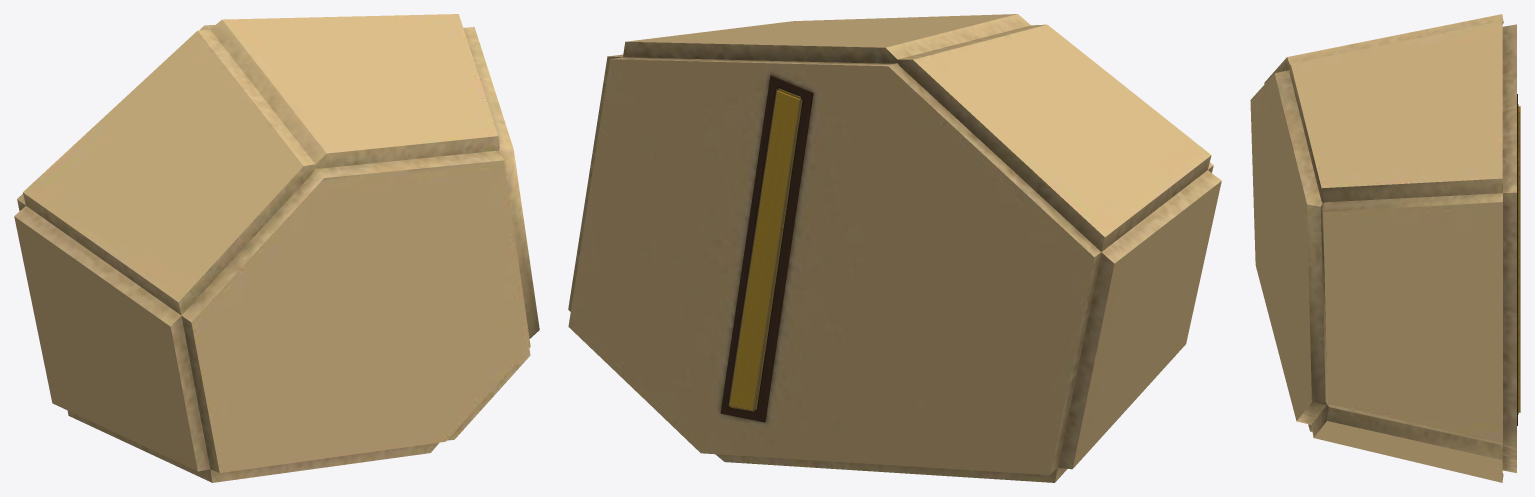
The picture shows the model from 3 angles, left to right: view 1: azimuth 30°, elevation 25°; view 2: azimuth 150°, elevation 25°; view 3: azimuth 270°, elevation 25°; orthographic projection. The views are drawn at different scales.
Visible parts, largest first — view 1: Sandstone_E3C38A; view 2: Sandstone_E3C38A, Polished_Inlay_D4A632, Weathered_Crevice_4A2E1C; view 3: Sandstone_E3C38A, Polished_Inlay_D4A632, Weathered_Crevice_4A2E1C.
Part boxes in pixels (bbox=[...]): Sandstone_E3C38A: bbox=[14, 14, 539, 482]; Sandstone_E3C38A: bbox=[568, 14, 1221, 482]; Polished_Inlay_D4A632: bbox=[728, 88, 802, 411]; Weathered_Crevice_4A2E1C: bbox=[720, 75, 813, 422]; Sandstone_E3C38A: bbox=[1250, 14, 1516, 482]; Polished_Inlay_D4A632: bbox=[1518, 104, 1520, 414]; Weathered_Crevice_4A2E1C: bbox=[1517, 94, 1517, 425].
Size of the model in its own units: 0.2931 by 0.2329 by 0.1467.
3 materials, 3 textured.
